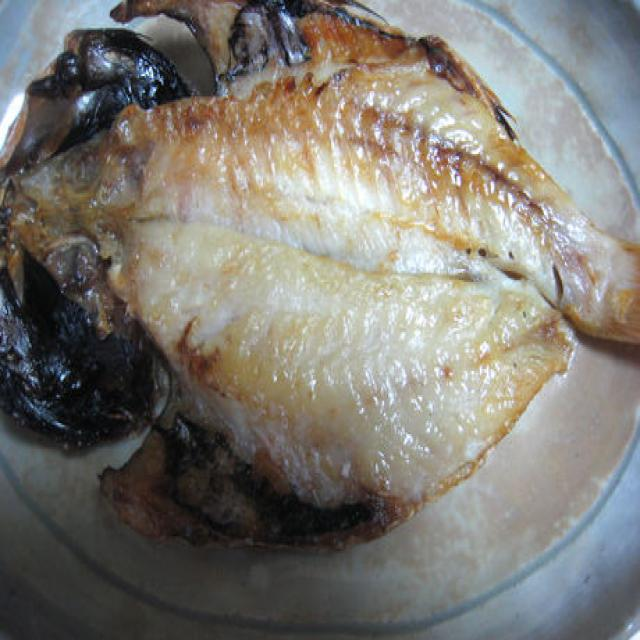熟制海鲜: (0, 0, 640, 529)
